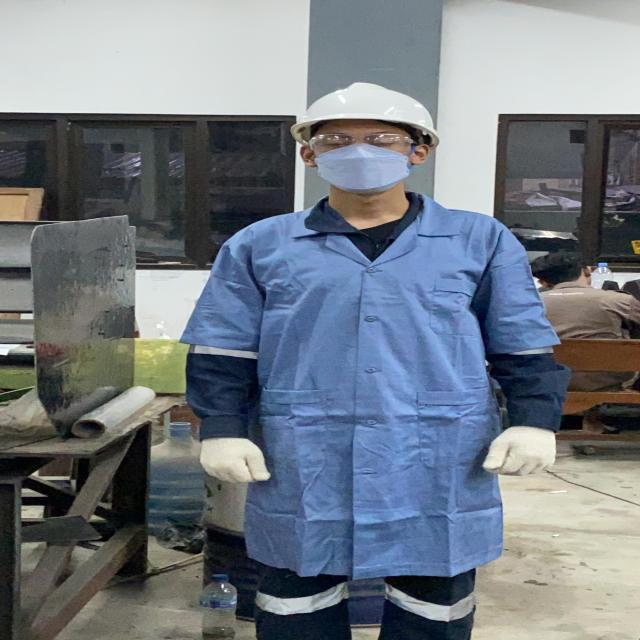glasses: (300, 130, 422, 155)
